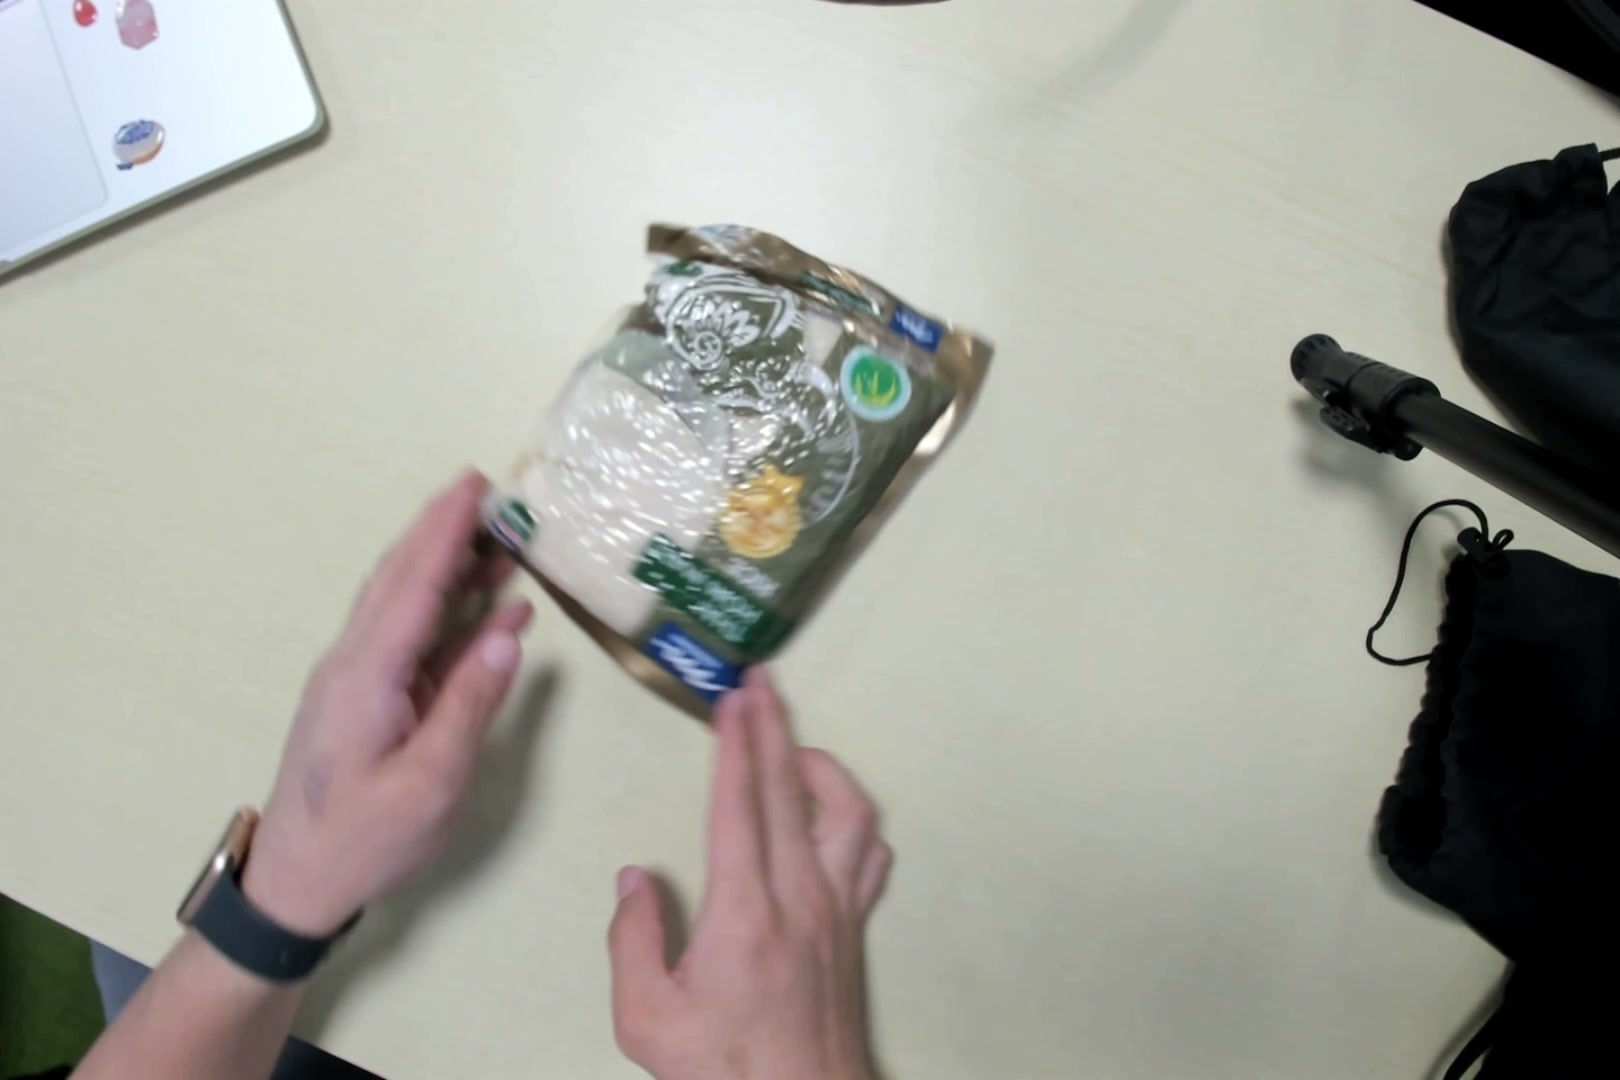Rice(White)_500-599g_NonHalal_NonHealthy: (481, 223, 990, 724)
